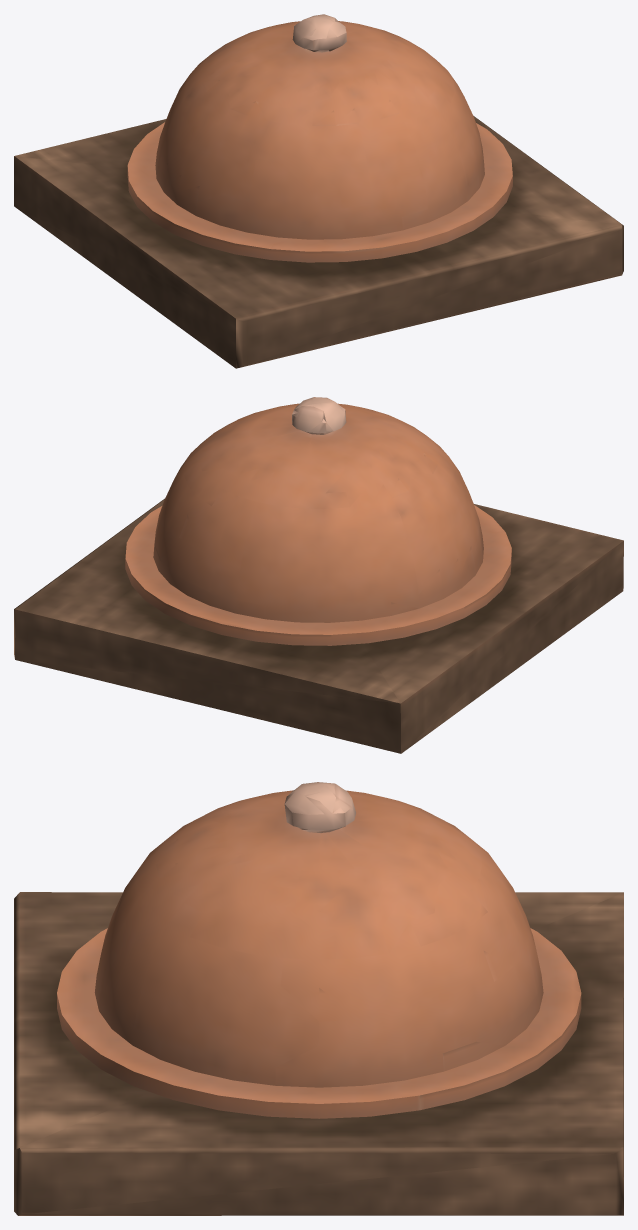
The model's file is call_bell_p.glb.
3 views of the same model, one above another, from view 1: azimuth 30°, elevation 25°; view 2: azimuth 150°, elevation 25°; view 3: azimuth 270°, elevation 25° (orthographic). The views are drawn at different scales.
Visible parts, largest first — view 1: mesh; view 2: mesh; view 3: mesh.
Boxes of the visible parts, x1,y1,x2,y2 form: mesh: (14, 14, 623, 368); mesh: (14, 397, 623, 753); mesh: (14, 782, 623, 1215).
Size of the model in its own units: 0.1187 by 0.065 by 0.1187.
1 material, 1 textured.
